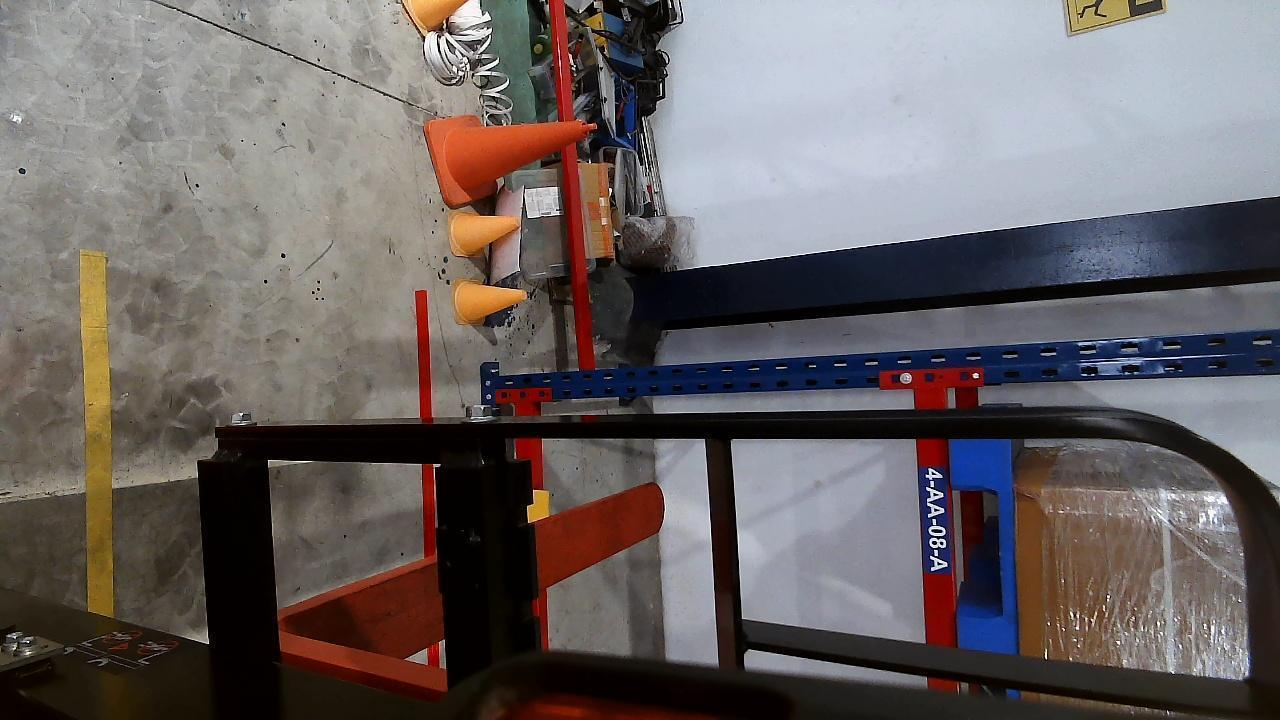red_line: (409, 286, 441, 666)
yellow_line: (80, 250, 113, 615)
